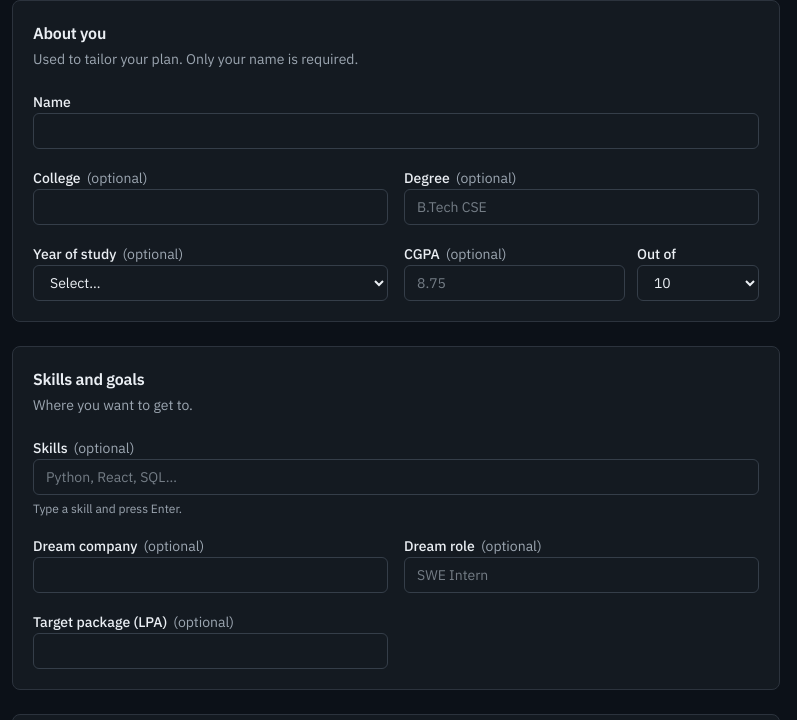
Test: ProfileForm › shows a general error banner for non-validation failures
In the field labelled "Name": (396, 131) [33,113,759,149], type "Asha"
(page scrolled)
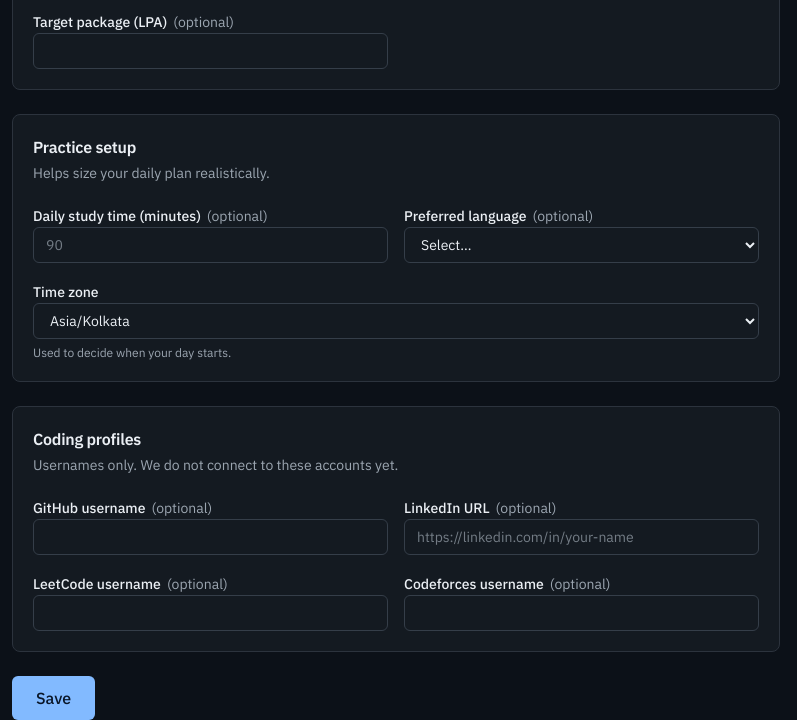
Click the button "Save": (54, 698) [12,676,95,719]
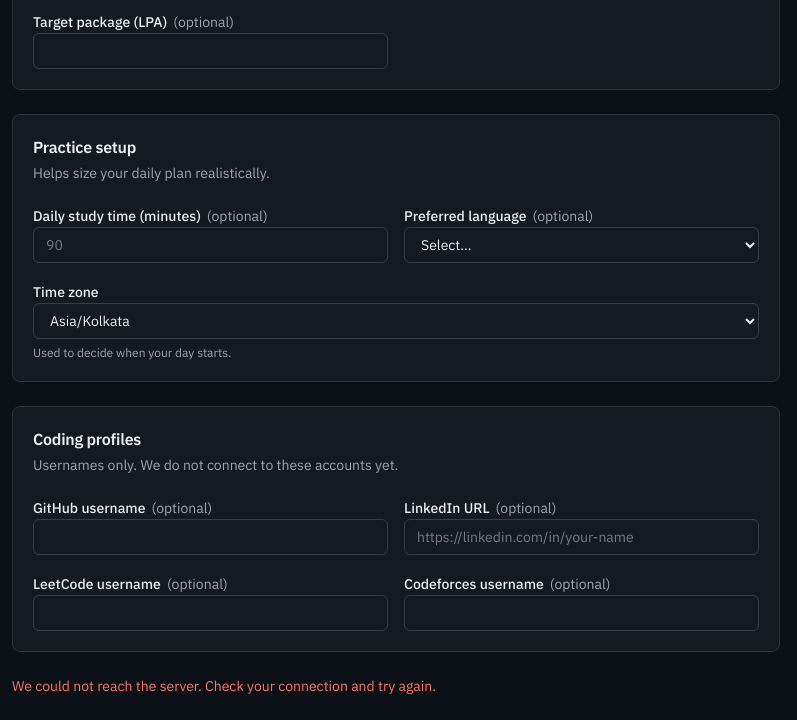
Now the text "We could not reach the server. Check your connection and try again." is shown, box [12,677,436,695]
